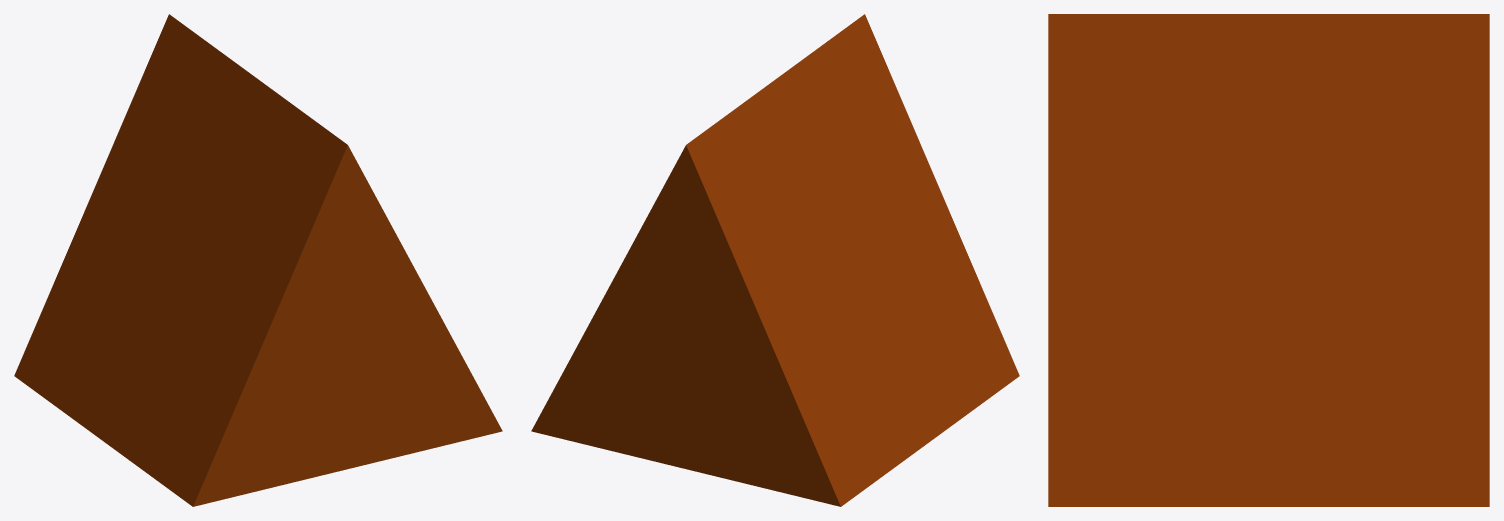
Rendered from dach.glb.
The picture shows the model from 3 angles, left to right: view 1: azimuth 30°, elevation 25°; view 2: azimuth 150°, elevation 25°; view 3: azimuth 270°, elevation 25°; orthographic projection. The views are drawn at different scales.
Visible parts, largest first — view 1: Cube; view 2: Cube; view 3: Cube.
Part boxes in pixels (x1,y1,x2,y2): Cube: (14, 14, 502, 506); Cube: (531, 14, 1019, 506); Cube: (1048, 14, 1489, 506).
Bounding box in the file's own units: 2 × 2 × 2.
Materials: 1 (1 with a texture image).
